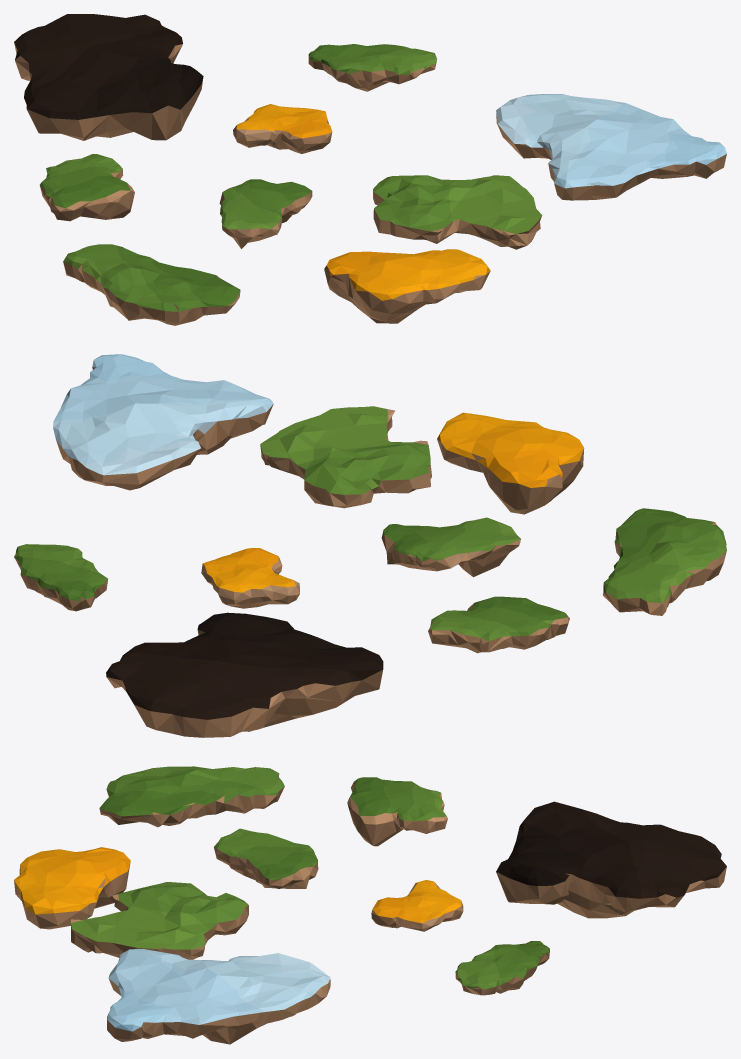
The model's file is Island.glb.
3 views of the same model, one above another, from view 1: azimuth 30°, elevation 25°; view 2: azimuth 150°, elevation 25°; view 3: azimuth 270°, elevation 25° (orthographic). The views are drawn at different scales.
Parts seen in each view (by area): view 1: Plane.010, Plane.007, Plane.001, Plane.003, Plane.004, Plane.006, Plane.008, Plane.005, Plane.002; view 2: Plane.010, Plane.007, Plane.001, Plane.004, Plane.003, Plane.005, Plane.006, Plane.008, Plane.002; view 3: Plane.010, Plane.007, Plane.001, Plane.003, Plane.004, Plane.006, Plane.005, Plane.008, Plane.002.
Part boxes in pixels (left/top/right/bottom): Plane.010: left=14, top=14, right=203, bottom=140; Plane.007: left=496, top=94, right=726, bottom=200; Plane.001: left=373, top=175, right=542, bottom=249; Plane.003: left=63, top=244, right=240, bottom=325; Plane.004: left=324, top=249, right=490, bottom=323; Plane.006: left=39, top=154, right=134, bottom=221; Plane.008: left=308, top=44, right=437, bottom=91; Plane.005: left=219, top=179, right=312, bottom=248; Plane.002: left=233, top=104, right=332, bottom=153; Plane.010: left=106, top=612, right=383, bottom=737; Plane.007: left=53, top=354, right=273, bottom=490; Plane.001: left=260, top=406, right=431, bottom=508; Plane.004: left=437, top=412, right=584, bottom=514; Plane.003: left=603, top=508, right=726, bottom=615; Plane.005: left=381, top=517, right=520, bottom=577; Plane.006: left=428, top=596, right=569, bottom=653; Plane.008: left=14, top=544, right=107, bottom=611; Plane.002: left=201, top=548, right=299, bottom=608; Plane.010: left=496, top=801, right=726, bottom=918; Plane.007: left=107, top=949, right=330, bottom=1044; Plane.001: left=71, top=882, right=248, bottom=959; Plane.003: left=99, top=766, right=284, bottom=827; Plane.004: left=14, top=847, right=130, bottom=929; Plane.006: left=347, top=777, right=447, bottom=846; Plane.005: left=214, top=828, right=318, bottom=888; Plane.008: left=455, top=941, right=549, bottom=995; Plane.002: left=371, top=880, right=463, bottom=931.
Bounding box in the file's own units: 16.54 × 2.19 × 17.73.
Materials: 1 (1 with a texture image).
